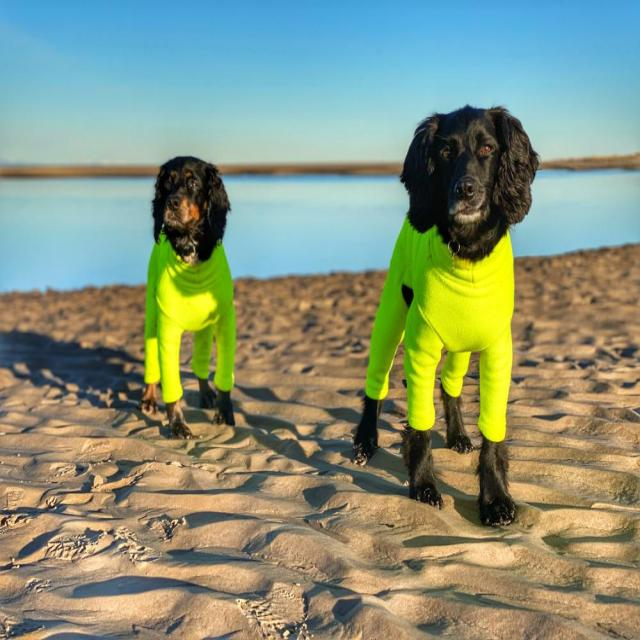Dog: (397, 99, 545, 257), (149, 150, 233, 270)
